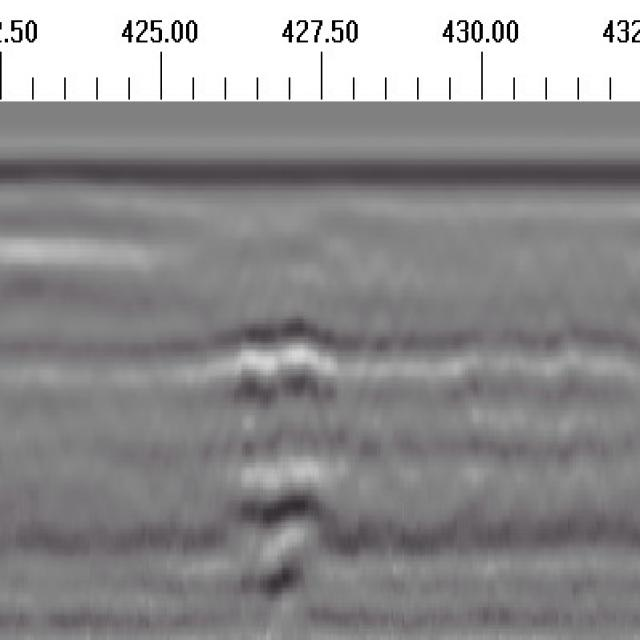loose: (219, 317, 352, 612)
